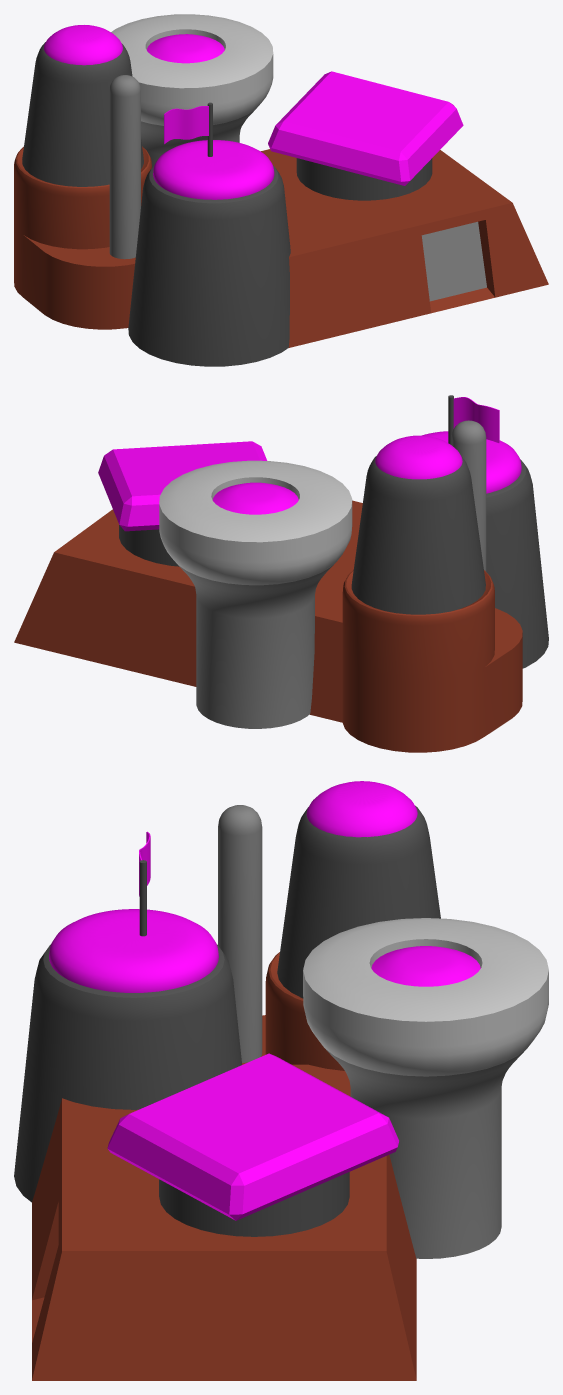
Rendered from Academy.fbx.
The picture shows the model from 3 angles, top to bottom: view 1: azimuth 30°, elevation 25°; view 2: azimuth 150°, elevation 25°; view 3: azimuth 270°, elevation 25°; orthographic projection. The views are drawn at different scales.
Visible parts, largest first — view 1: Cube.002, Cylinder.020, Cylinder.025, Cube.025, Cylinder.028, Cylinder.026, Cylinder.021, Cylinder.024, Cylinder.023, Cylinder.027, Cylinder.029, Plane; view 2: Cylinder.028, Cube.002, Cylinder.025, Cylinder.026, Cylinder.020, Cube.025, Cylinder.027, Cylinder.024, Cylinder.029, Cylinder.021, Cylinder.023, Plane; view 3: Cube.002, Cylinder.028, Cube.025, Cylinder.020, Cylinder.026, Cylinder.021, Cylinder.024, Cylinder.023, Cylinder.027, Cylinder.025, Cylinder.029.
Part boxes in pixels (x1,y1,x2,y2): Cube.002: [261, 149, 548, 347]; Cylinder.020: [128, 165, 290, 366]; Cylinder.025: [14, 146, 151, 329]; Cube.025: [268, 71, 463, 185]; Cylinder.028: [111, 14, 273, 167]; Cylinder.026: [22, 42, 143, 186]; Cylinder.021: [153, 140, 274, 199]; Cylinder.024: [109, 75, 140, 259]; Cylinder.023: [296, 158, 432, 200]; Cylinder.027: [44, 25, 122, 65]; Cylinder.029: [147, 34, 224, 63]; Plane: [164, 106, 208, 144]; Cylinder.028: [159, 460, 352, 728]; Cube.002: [14, 500, 362, 722]; Cylinder.025: [342, 570, 522, 752]; Cylinder.026: [351, 456, 485, 614]; Cylinder.020: [486, 459, 548, 668]; Cube.025: [98, 441, 267, 531]; Cylinder.027: [375, 435, 462, 479]; Cylinder.024: [451, 420, 486, 571]; Cylinder.029: [212, 482, 298, 514]; Cylinder.021: [422, 431, 521, 493]; Cylinder.023: [119, 524, 178, 566]; Plane: [453, 397, 499, 442]; Cube.002: [32, 1064, 416, 1380]; Cylinder.028: [303, 918, 548, 1258]; Cube.025: [107, 1053, 398, 1220]; Cylinder.020: [14, 944, 241, 1202]; Cylinder.026: [277, 805, 440, 998]; Cylinder.021: [49, 909, 218, 992]; Cylinder.024: [218, 805, 262, 1062]; Cylinder.023: [159, 1172, 349, 1236]; Cylinder.027: [306, 781, 417, 837]; Cylinder.025: [242, 952, 344, 1070]; Cylinder.029: [371, 946, 480, 986].
Bounding box in the file's own units: 280 × 163 × 226.
